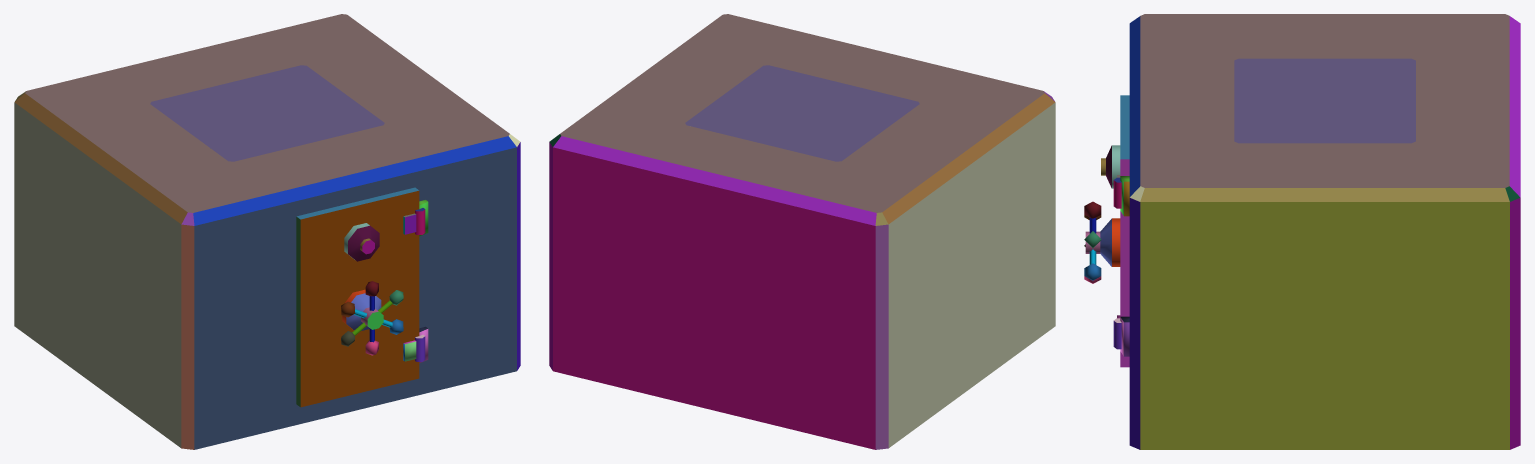
The model's file is Safe.fbx.
The picture shows the model from 3 angles, left to right: view 1: azimuth 30°, elevation 25°; view 2: azimuth 150°, elevation 25°; view 3: azimuth 270°, elevation 25°; orthographic projection. The views are drawn at different scales.
Parts seen in each view (by area): view 1: SafeLarge_Chassis, SafeLarge_Door, SafeSmall_Chassis; view 2: SafeLarge_Chassis, SafeSmall_Chassis; view 3: SafeLarge_Chassis, SafeSmall_Chassis, SafeLarge_Door.
Boxes of the visible parts, box(x1,y1,x2,y2) form: SafeLarge_Chassis: box(14, 14, 520, 449); SafeLarge_Door: box(296, 187, 425, 407); SafeSmall_Chassis: box(150, 65, 384, 161); SafeLarge_Chassis: box(549, 14, 1055, 449); SafeSmall_Chassis: box(685, 65, 919, 161); SafeLarge_Chassis: box(1120, 14, 1520, 449); SafeSmall_Chassis: box(1234, 58, 1415, 143); SafeLarge_Door: box(1084, 95, 1129, 367).
Size of the model in its own units: 449 by 304 by 452.
